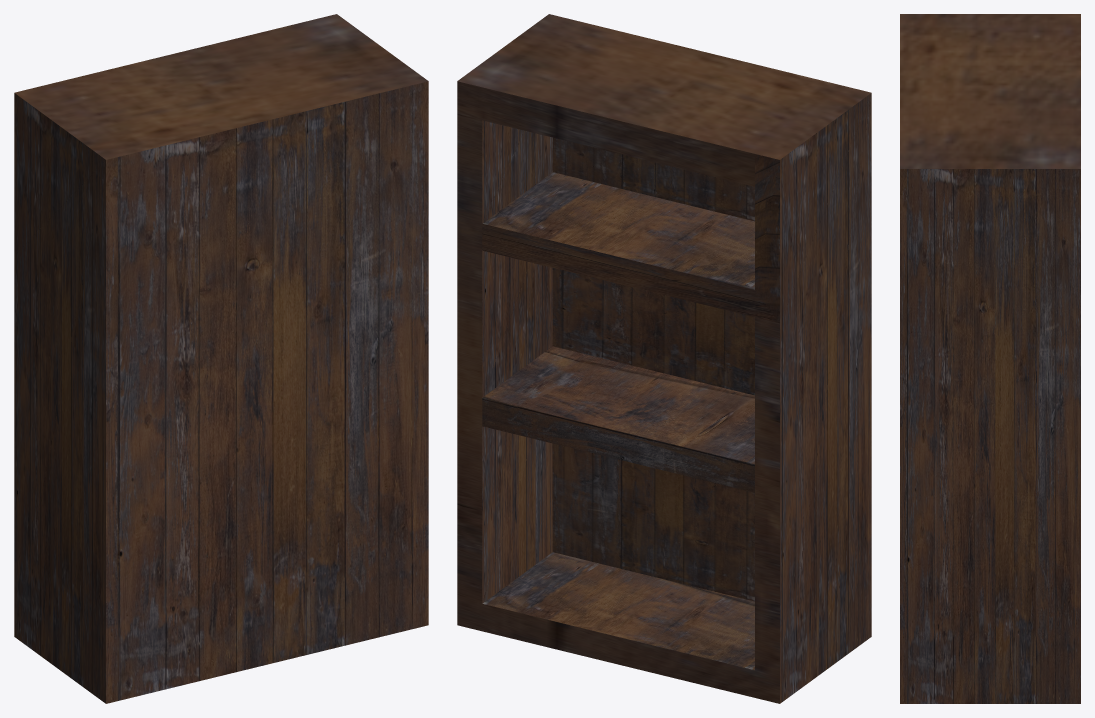
The model's file is Shelf.fbx.
3 views of the same model, side by side, from view 1: azimuth 30°, elevation 25°; view 2: azimuth 150°, elevation 25°; view 3: azimuth 270°, elevation 25° (orthographic).
Parts seen in each view (by area): view 1: Cube.002; view 2: Cube.002; view 3: Cube.002.
Part boxes in pixels (left/top/right/bottom): Cube.002: left=14, top=14, right=428, bottom=703; Cube.002: left=457, top=14, right=871, bottom=703; Cube.002: left=900, top=14, right=1080, bottom=703.
Bounding box in the file's own units: 323 × 520 × 159.
